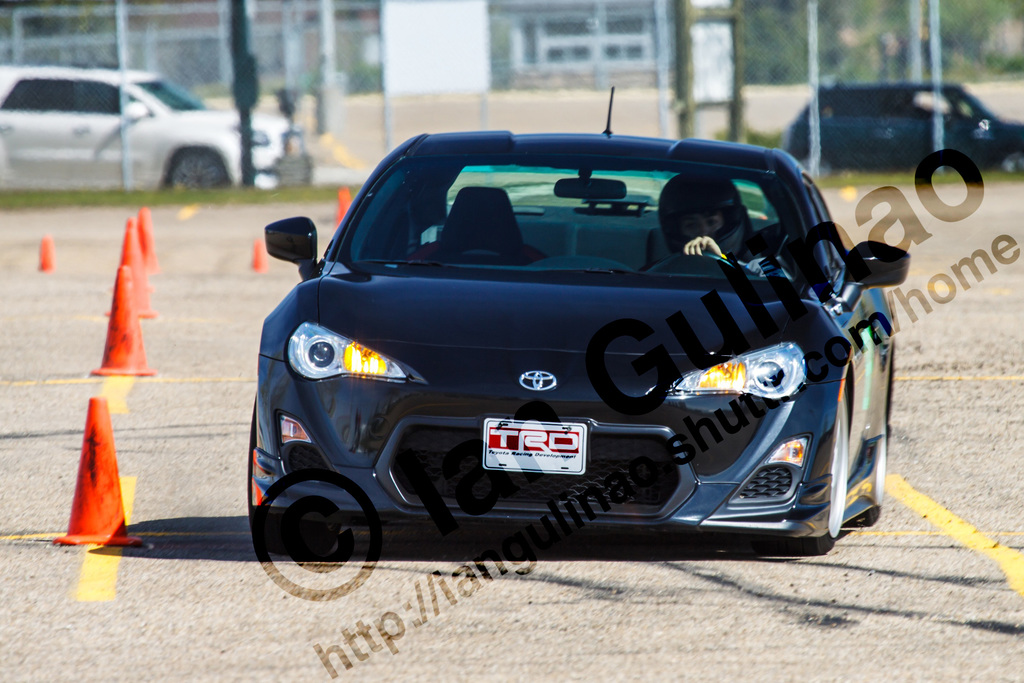person: (653, 171, 802, 301)
